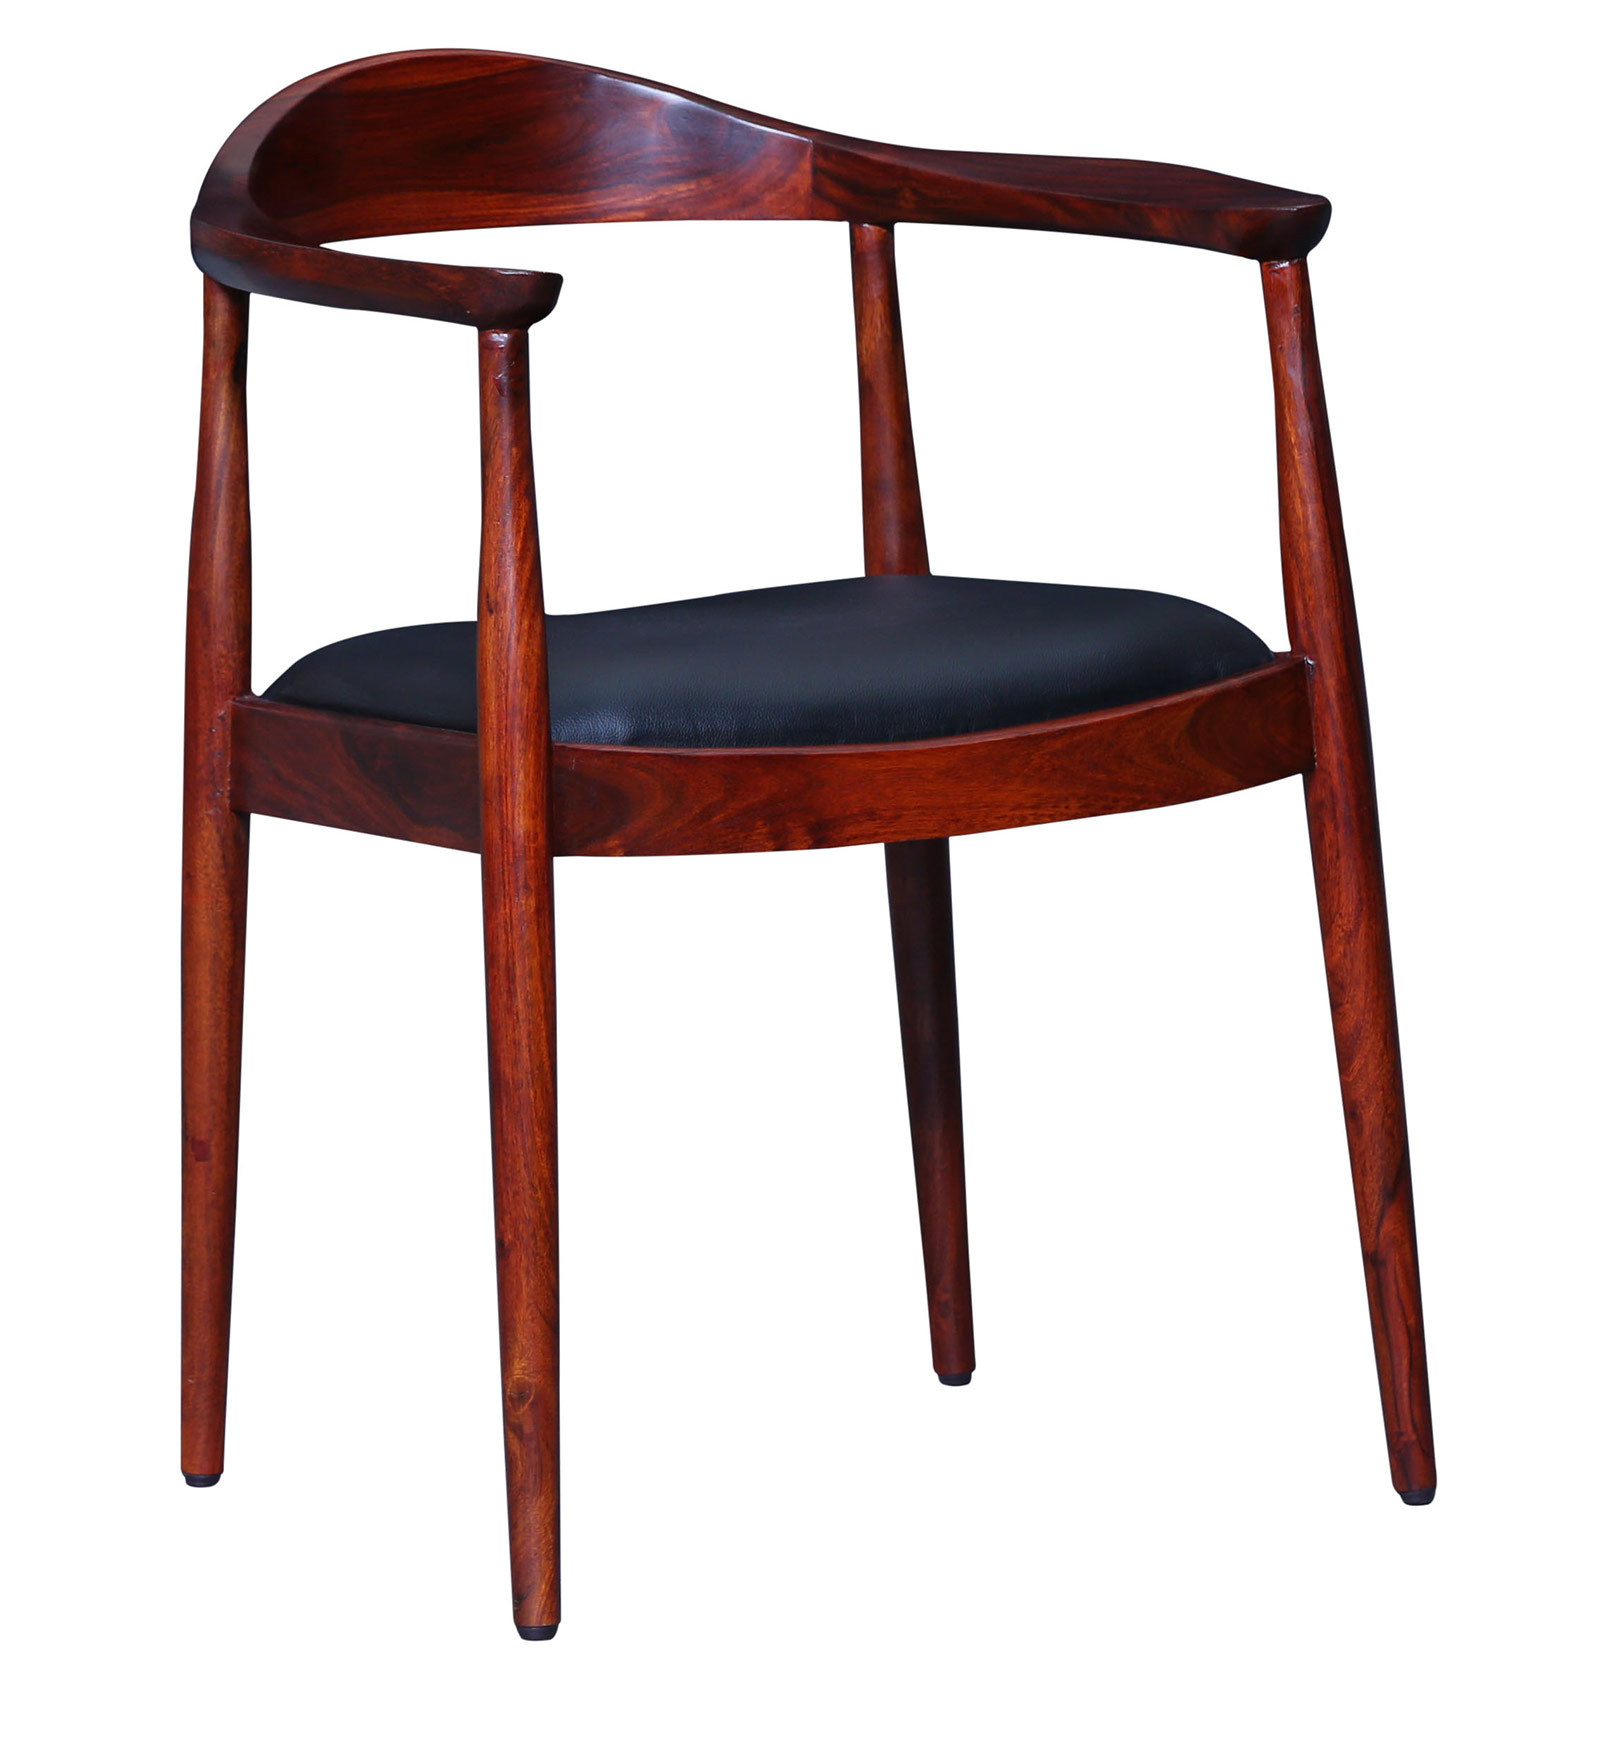Esvelt Arm Chair in Honey Oak Finish by Woodsworth: (116, 34, 1552, 1650)
